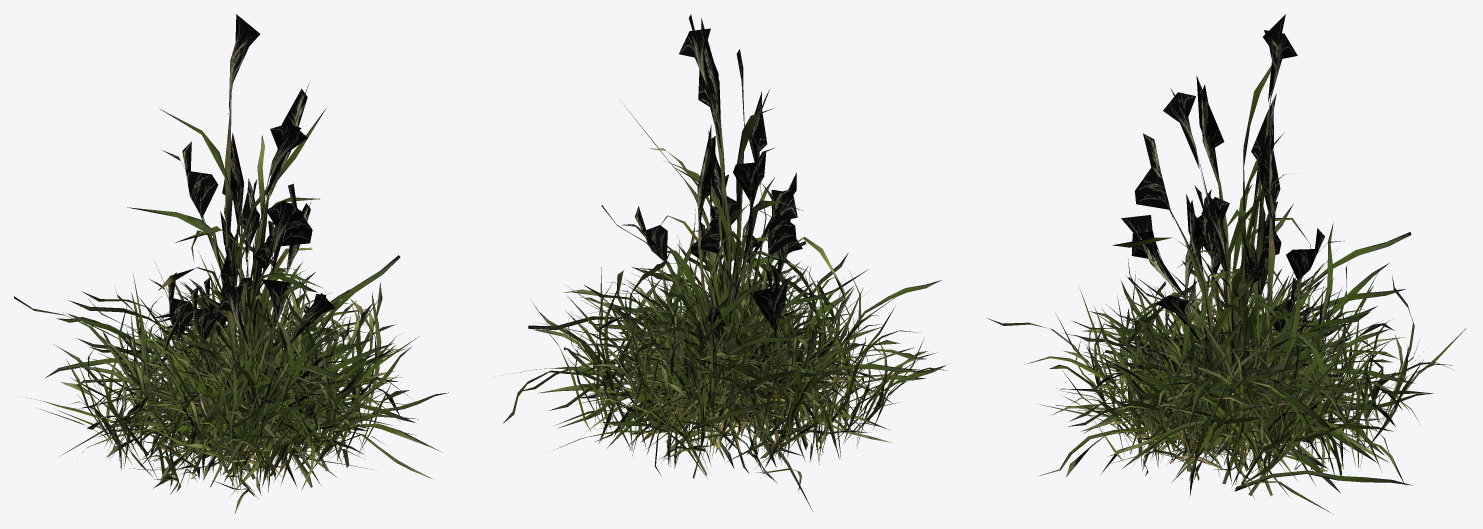
The model's file is grass.glb.
3 renders of one model, left to right at view 1: azimuth 30°, elevation 25°; view 2: azimuth 150°, elevation 25°; view 3: azimuth 270°, elevation 25°, orthographic. The views are drawn at different scales.
Parts seen in each view (by area): view 1: grass_9, grass_10, grass_1, grass_8, grass_4, grass_3, grass_5, grass_2, grass_7, grass_0, grass_6; view 2: grass_9, grass_10, grass_1, grass_4, grass_8, grass_3, grass_5, grass_2, grass_7, grass_0, grass_6; view 3: grass_9, grass_10, grass_1, grass_8, grass_4, grass_5, grass_3, grass_7, grass_2, grass_0, grass_6.
Part boxes in pixels (x1,y1,x2,y2): grass_9: (14,219,419,513); grass_10: (67,279,448,498); grass_1: (45,262,442,489); grass_8: (61,199,418,494); grass_4: (127,14,326,368); grass_3: (158,83,312,406); grass_5: (149,132,367,422); grass_2: (113,219,366,484); grass_7: (154,282,398,487); grass_0: (153,270,345,471); grass_6: (138,307,341,472); grass_9: (503,205,947,492); grass_10: (518,247,926,483); grass_1: (538,242,892,476); grass_4: (613,14,802,377); grass_8: (581,130,847,510); grass_3: (650,18,845,347); grass_5: (648,125,807,415); grass_2: (580,174,853,459); grass_7: (548,244,834,437); grass_0: (609,251,844,442); grass_6: (622,275,841,448); grass_9: (987,203,1465,514); grass_10: (1060,254,1432,493); grass_1: (1039,243,1420,498); grass_8: (1082,194,1395,468); grass_4: (1112,14,1344,407); grass_5: (1121,125,1298,426); grass_3: (1126,76,1310,370); grass_7: (1100,257,1393,496); grass_2: (1069,216,1363,474); grass_0: (1138,261,1349,452); grass_6: (1121,284,1376,458).
Bounding box in the file's own units: 0.3166 × 0.3418 × 0.3266.
1 material, 1 textured.
